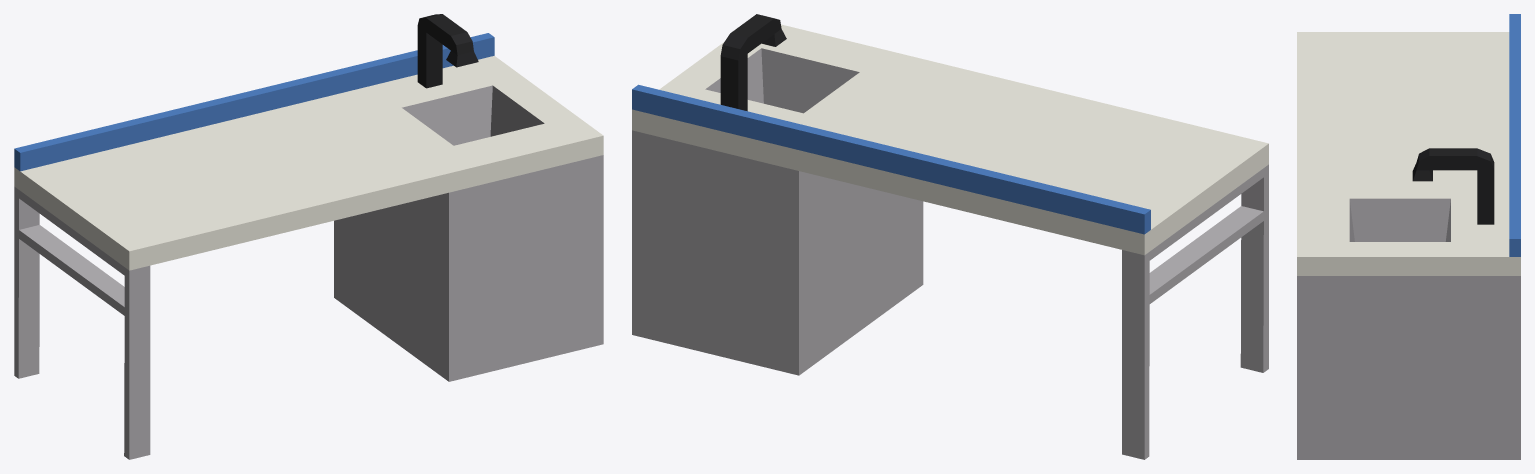
Rendered from Lab_Worktable.glb.
The picture shows the model from 3 angles, left to right: view 1: azimuth 30°, elevation 25°; view 2: azimuth 150°, elevation 25°; view 3: azimuth 270°, elevation 25°; orthographic projection. The views are drawn at different scales.
Visible parts, largest first — view 1: Paillasse; view 2: Paillasse; view 3: Paillasse.
Part boxes in pixels (<box>): Paillasse: <box>14,14,603,459</box>; Paillasse: <box>632,14,1268,459</box>; Paillasse: <box>1297,14,1520,459</box>.
Bounding box in the file's own units: 2.37 × 1.33 × 0.9975.
